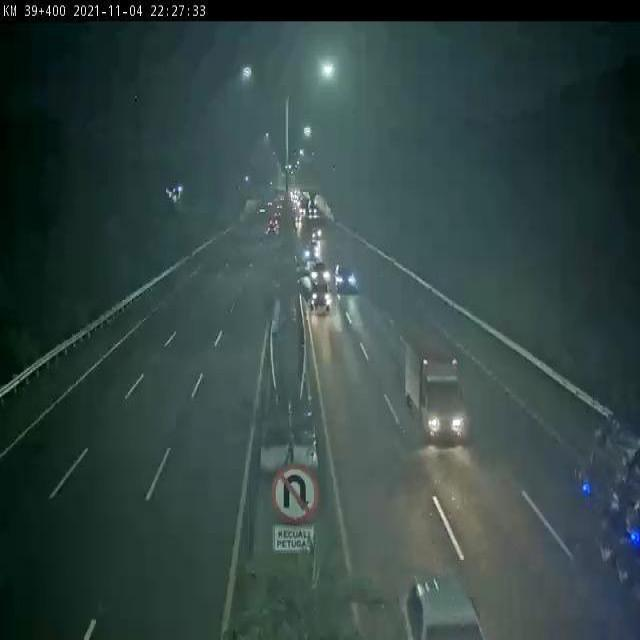car: (308, 282, 331, 310), (333, 264, 358, 289), (309, 261, 332, 287)
truck: (549, 397, 640, 579), (403, 339, 464, 445)
